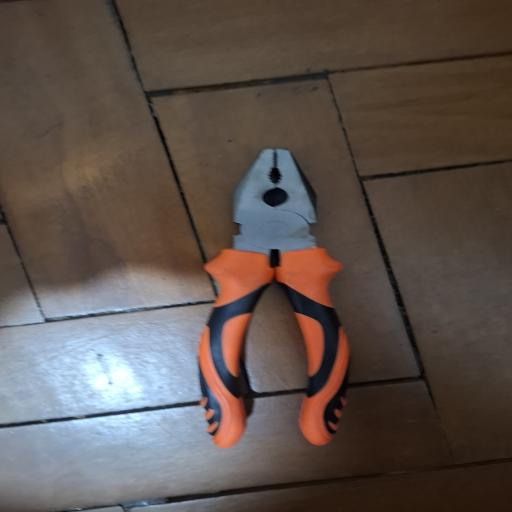alicate: (193, 145, 354, 450)
